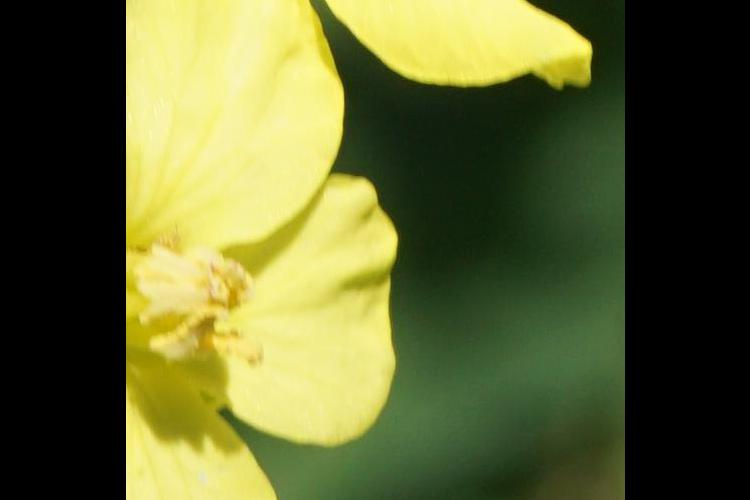yellow: (127, 1, 400, 500), (281, 1, 591, 134)
